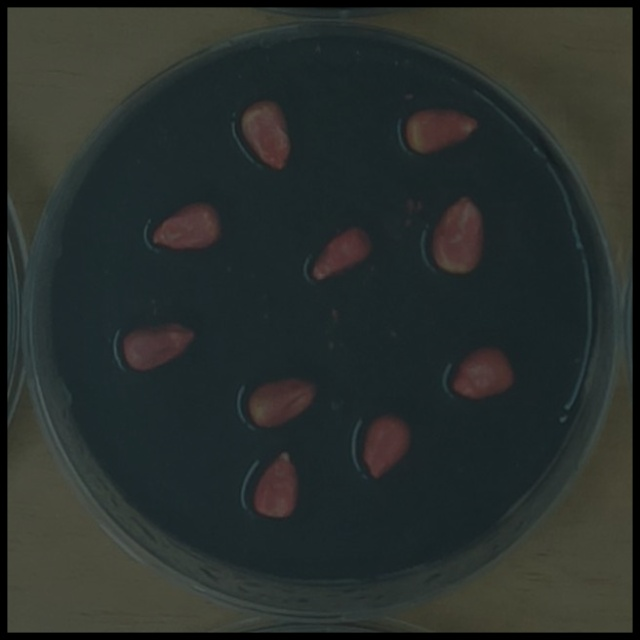Zea mays: (425, 186, 491, 280), (241, 365, 324, 434), (301, 216, 380, 287), (348, 404, 417, 485), (115, 313, 202, 377), (233, 90, 296, 177), (398, 100, 487, 161), (144, 193, 230, 256), (239, 441, 305, 523), (443, 339, 522, 406)
